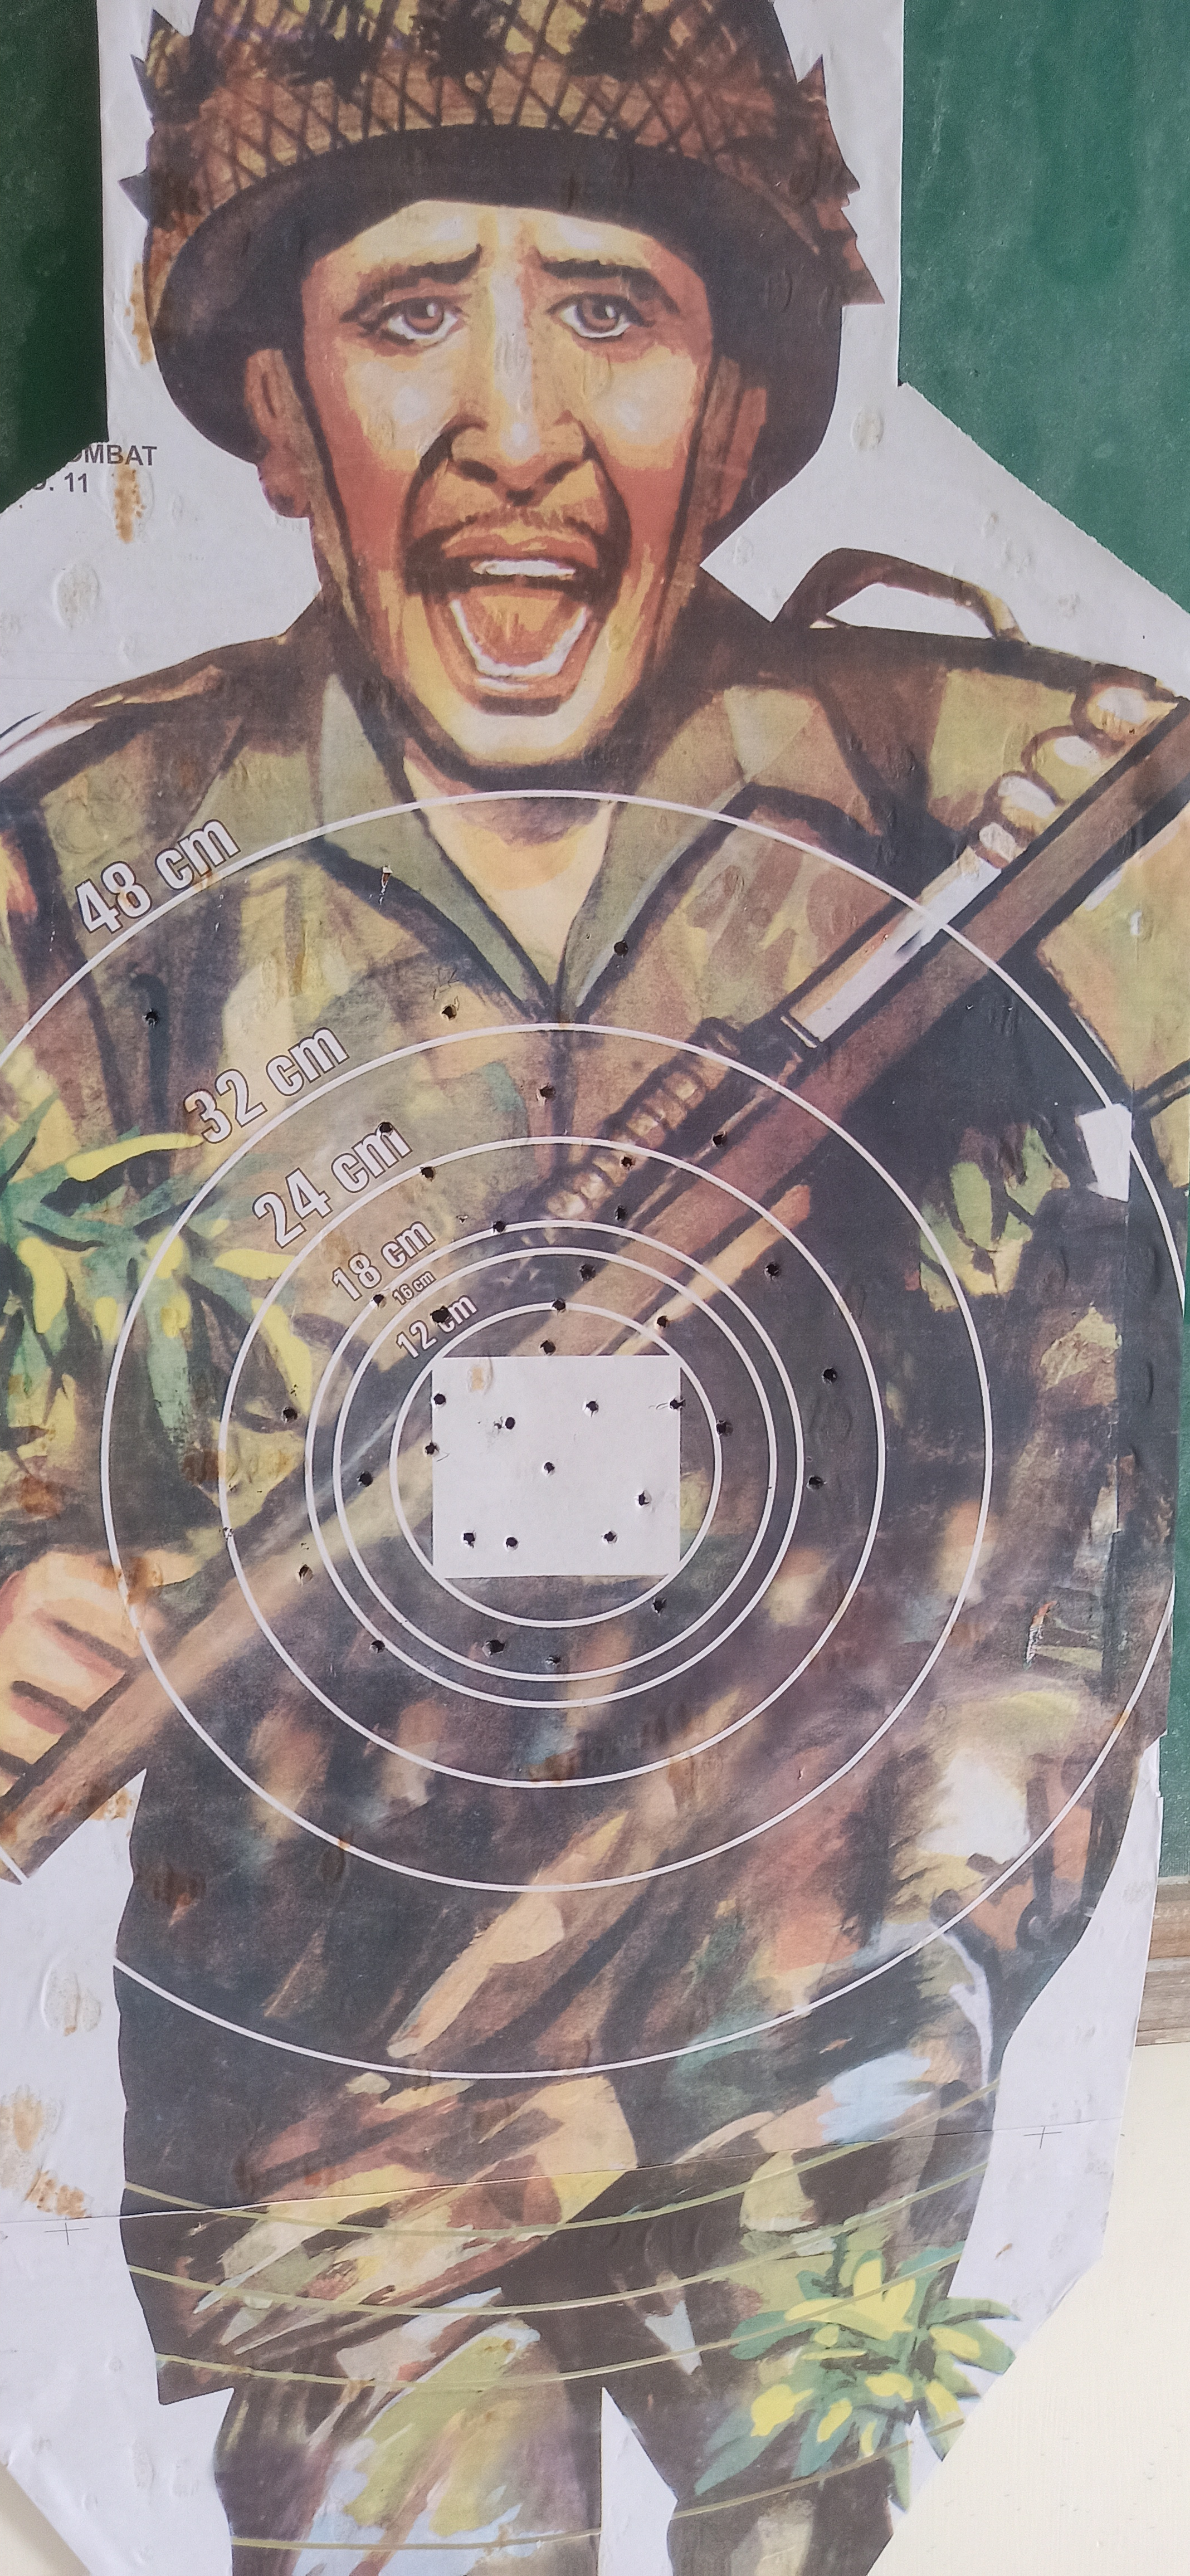bullet hit: (630, 1485, 661, 1515), (278, 1401, 307, 1428), (487, 1211, 511, 1242), (579, 1258, 602, 1291), (457, 1525, 480, 1557), (437, 1000, 464, 1028), (759, 1257, 787, 1283), (611, 1201, 638, 1227), (546, 1295, 572, 1321), (580, 1393, 607, 1419), (819, 1362, 846, 1387), (710, 1416, 741, 1437), (533, 1079, 559, 1104), (611, 935, 636, 961), (429, 1301, 452, 1329), (357, 1465, 380, 1492), (648, 1595, 674, 1618), (708, 1127, 731, 1153), (140, 1005, 163, 1032), (600, 1525, 621, 1552), (500, 1531, 528, 1552), (293, 1561, 316, 1585), (485, 1636, 511, 1658), (376, 1114, 398, 1140), (421, 1441, 444, 1464), (537, 1334, 560, 1357), (544, 1651, 569, 1672), (664, 1393, 689, 1414), (539, 1457, 564, 1479), (804, 1474, 830, 1493), (431, 1387, 450, 1413), (653, 1313, 676, 1334), (417, 1161, 439, 1184), (616, 1150, 638, 1173), (367, 1635, 388, 1658), (501, 1414, 523, 1434), (371, 1291, 388, 1309)
white box: (431, 1355, 685, 1580)
